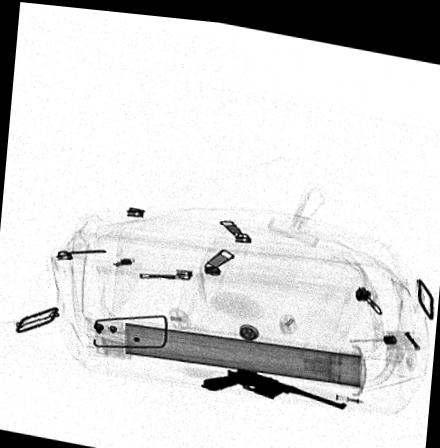Gun: (198, 359, 348, 404)
